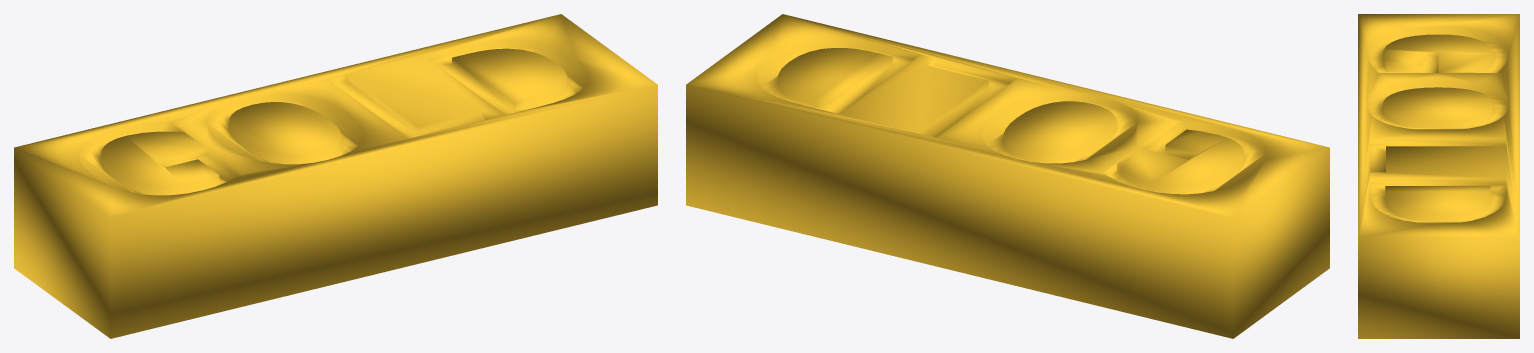
File: gold bar 1 (sculpture partition).dae
3 renders of one model, left to right at view 1: azimuth 30°, elevation 25°; view 2: azimuth 150°, elevation 25°; view 3: azimuth 270°, elevation 25°, orthographic. The views are drawn at different scales.
Parts seen in each view (by area): view 1: gold_bar (×7); view 2: gold_bar (×7); view 3: gold_bar (×7).
Boxes of the visible parts, x1,y1,x2,y2 form: gold_bar (×7): (14,14,657,338); gold_bar (×7): (686,14,1329,338); gold_bar (×7): (1358,14,1519,338).
Bounding box in the file's own units: 432 × 132 × 91.19.
